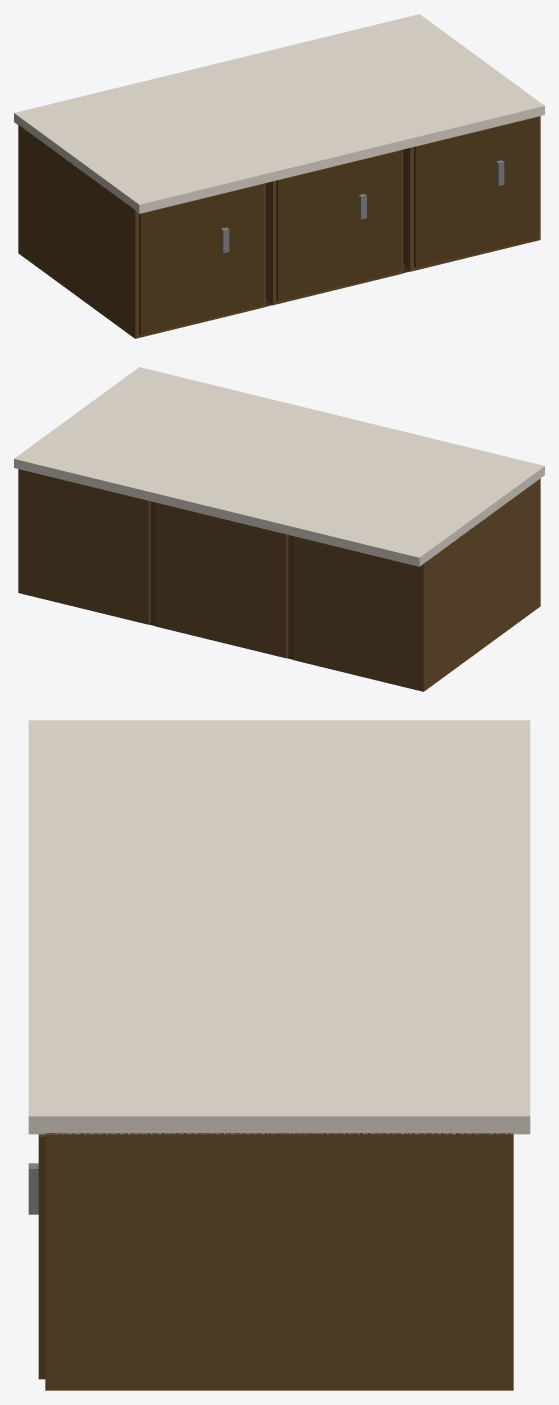
File: kitchen-island.glb
3 views of the same model, one above another, from view 1: azimuth 30°, elevation 25°; view 2: azimuth 150°, elevation 25°; view 3: azimuth 270°, elevation 25° (orthographic). The views are drawn at different scales.
Size of the model in its own units: 2.8 by 0.93 by 1.5.
